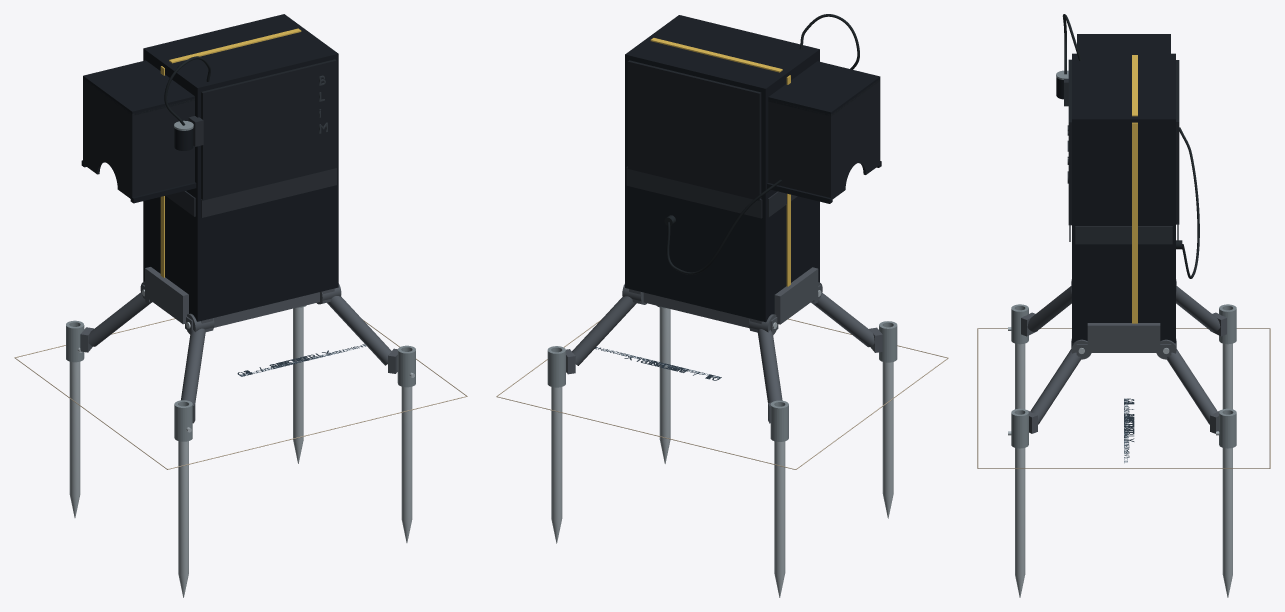
File: blim-robot-v2.glb
The picture shows the model from 3 angles, left to right: view 1: azimuth 30°, elevation 25°; view 2: azimuth 150°, elevation 25°; view 3: azimuth 270°, elevation 25°; orthographic projection. The views are drawn at different scales.
Parts seen in each view (by area): view 1: Rounded BLiM enclosure, Front upper cover, Hood wall -1, Hood end with semicircular lower opening, Hood top, Dark band broad face -1, Tusk_Left_Back, Tusk_Right_Front, Tusk_Left_Front, Tusk_Right_Back, Cradle retaining lip -1, Stem_Right_Front (+7 smaller); view 2: Rounded BLiM enclosure, Back upper access panel, Hood wall 1, Hood end with semicircular lower opening, Hood top, Dark band broad face 1, Tusk_Right_Back, Tusk_Left_Back, Tusk_Left_Front, Tusk_Right_Front, Cradle retaining lip -1, Stem_Right_Back (+8 smaller); view 3: Rounded BLiM enclosure, Cradle retaining lip 1, Hood top, Dark band narrow face 1, Tusk_Right_Back, Tusk_Right_Front, Yellow side retention band 1, Stem_Right_Back, Stem_Right_Front, Stem_Left_Back, Stem_Left_Front, Tusk_Left_Back (+8 smaller).
Boxes of the visible parts, x1,y1,x2,y2 form: Rounded BLiM enclosure: [143, 14, 338, 321]; Front upper cover: [201, 59, 336, 200]; Hood wall -1: [130, 98, 194, 197]; Hood end with semicircular lower opening: [83, 78, 134, 199]; Hood top: [83, 60, 194, 115]; Dark band broad face -1: [201, 168, 336, 217]; Tusk_Left_Back: [69, 361, 80, 517]; Tusk_Right_Front: [401, 386, 412, 542]; Tusk_Left_Front: [178, 441, 188, 597]; Tusk_Right_Back: [293, 307, 303, 463]; Cradle retaining lip -1: [145, 267, 188, 324]; Stem_Right_Front: [327, 296, 391, 365]; Rounded BLiM enclosure: [625, 15, 819, 322]; Back upper access panel: [627, 60, 761, 200]; Hood wall 1: [768, 99, 832, 197]; Hood end with semicircular lower opening: [828, 79, 880, 200]; Hood top: [768, 61, 880, 116]; Dark band broad face 1: [626, 166, 762, 218]; Tusk_Right_Back: [551, 387, 562, 543]; Tusk_Left_Back: [774, 441, 785, 597]; Tusk_Left_Front: [882, 362, 893, 518]; Tusk_Right_Front: [659, 307, 670, 463]; Cradle retaining lip -1: [774, 267, 818, 324]; Stem_Right_Back: [572, 296, 636, 365]; Rounded BLiM enclosure: [1072, 53, 1175, 343]; Cradle retaining lip 1: [1087, 323, 1160, 352]; Hood top: [1077, 34, 1170, 53]; Dark band narrow face 1: [1075, 226, 1172, 244]; Tusk_Right_Back: [1222, 448, 1232, 597]; Tusk_Right_Front: [1015, 448, 1025, 597]; Yellow side retention band 1: [1132, 122, 1137, 323]; Stem_Right_Back: [1167, 349, 1217, 424]; Stem_Right_Front: [1030, 349, 1080, 424]; Stem_Left_Back: [1176, 286, 1220, 331]; Stem_Left_Front: [1027, 286, 1071, 331]; Tusk_Left_Back: [1222, 343, 1232, 409].
Bounding box in the file's own units: 0.5112 × 0.8366 × 0.4512.
